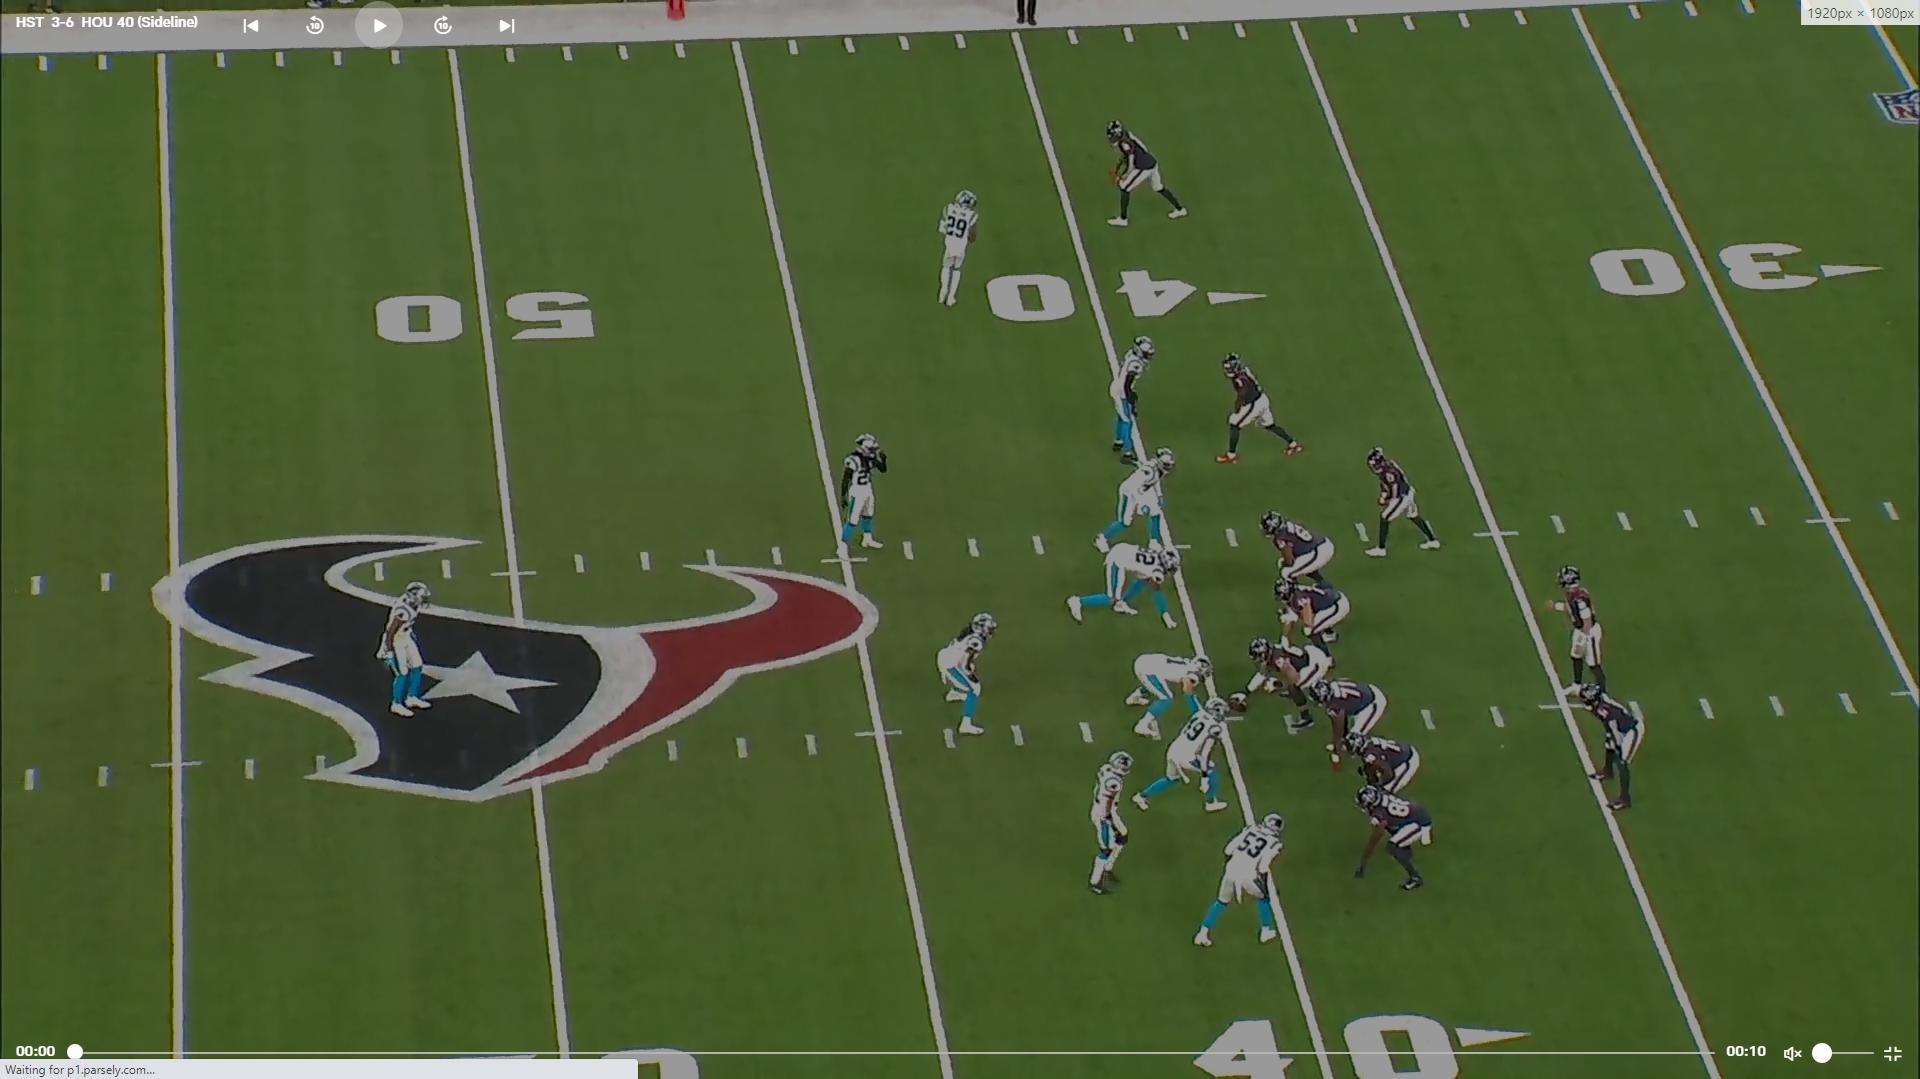center: (1251, 642, 1320, 704)
db: (386, 582, 438, 712), (1364, 791, 1429, 890), (1113, 338, 1163, 448), (949, 194, 982, 301)
lb: (1166, 695, 1226, 801), (945, 616, 1000, 729), (1101, 755, 1142, 889), (843, 427, 884, 547)
qb: (1556, 566, 1605, 683)
skill: (1205, 818, 1284, 940), (1104, 121, 1189, 228), (1577, 681, 1647, 799), (1362, 448, 1429, 550), (1222, 354, 1284, 445)
